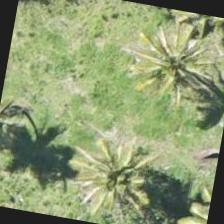Kelapa_Sawit: (62, 124, 167, 223), (129, 12, 223, 117)
